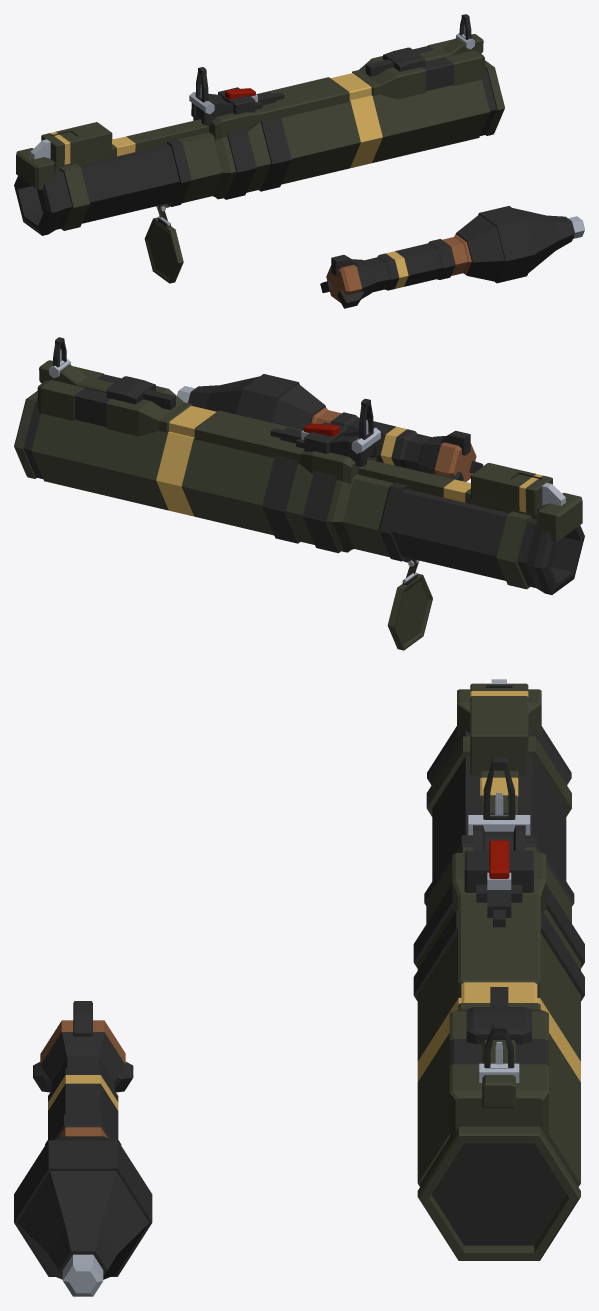
The model's file is m72_law_rocket_launcher.glb.
3 views of the same model, one above another, from view 1: azimuth 30°, elevation 25°; view 2: azimuth 150°, elevation 25°; view 3: azimuth 270°, elevation 25° (orthographic). The views are drawn at different scales.
Parts seen in each view (by area): view 1: Cylinder; view 2: Cylinder; view 3: Cylinder.
Part boxes in pixels (bbox=[...]): Cylinder: bbox=[14, 14, 584, 308]; Cylinder: bbox=[14, 337, 584, 650]; Cylinder: bbox=[14, 679, 584, 1296].
Bounding box in the file's own units: 6.53 × 2.71 × 3.7.
